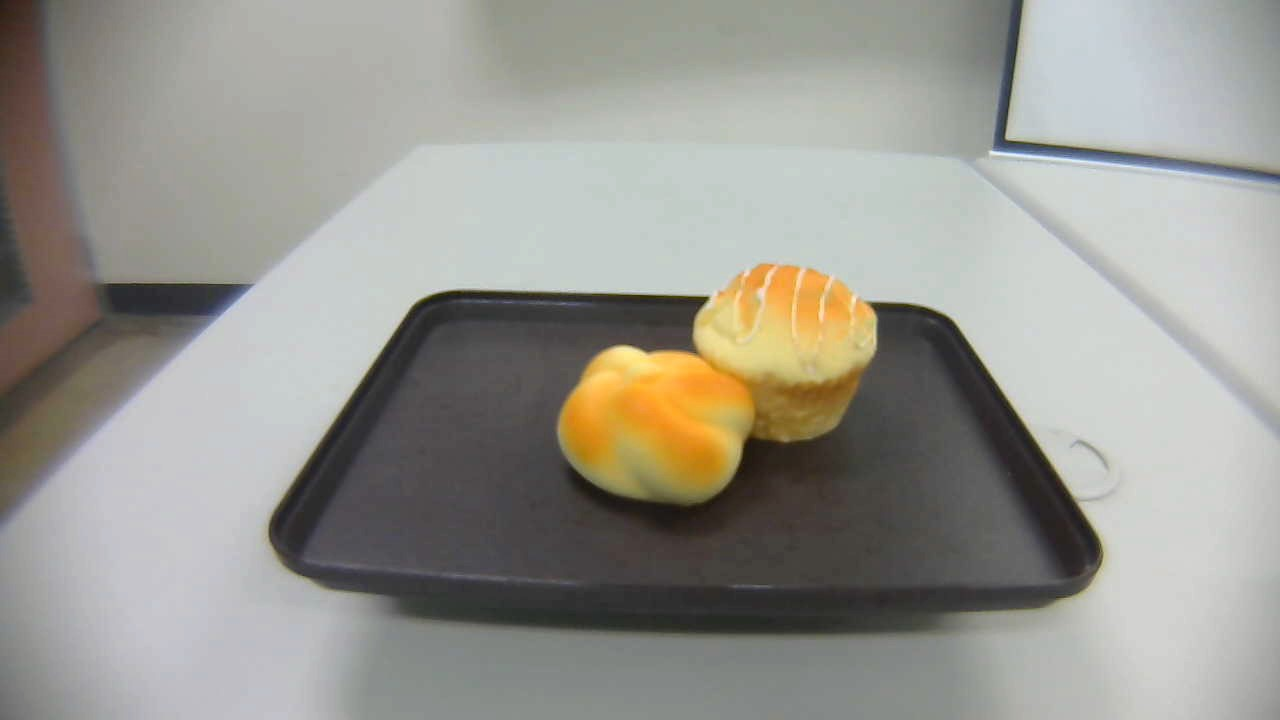cupcake: (693, 262, 877, 443)
twist bread: (555, 344, 756, 506)
